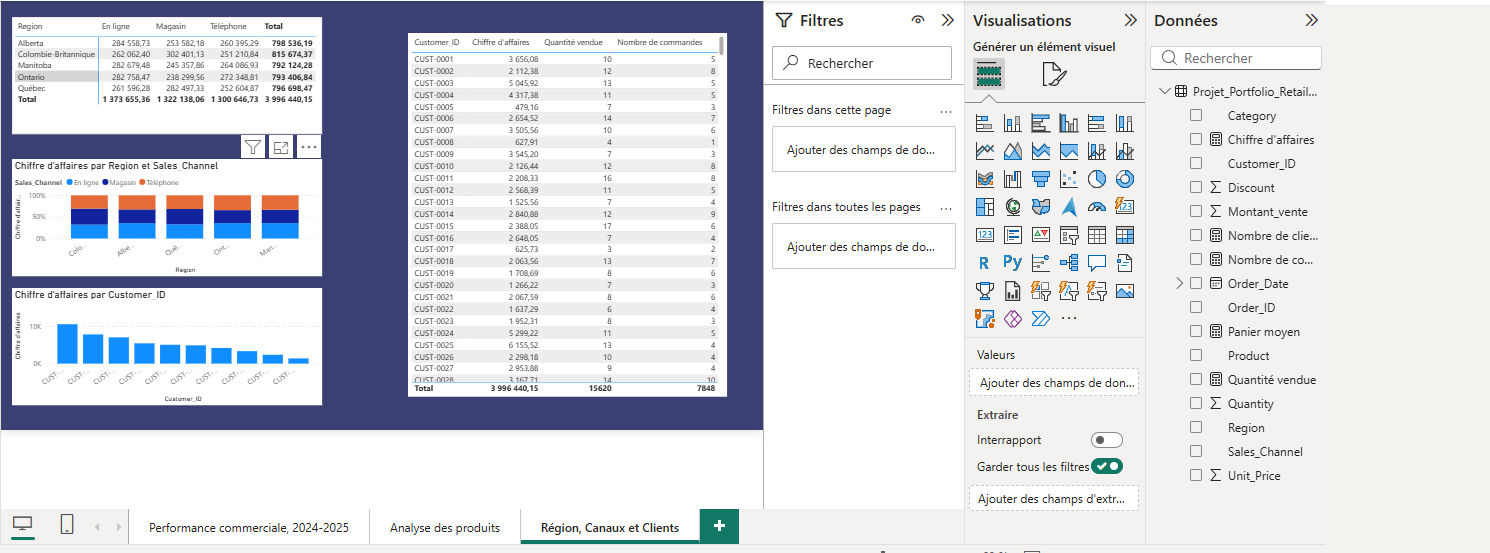

The page's visual inventory and layout, read from the dashboard file:
{"tool":"powerbi","page":{"name":"Région, Canaux et Clients","canvas":[1280,720],"ordinal":2},"visuals":[{"type":"pivotTable","fields":{"Rows":["Projet_Portfolio_Retail_Transactions_Sale.Region"],"Columns":["Projet_Portfolio_Retail_Transactions_Sale.Sales_Channel"],"Values":["Projet_Portfolio_Retail_Transactions_Sale.Chiffre d'affaires"]},"box":[18.5,26.9,520.7,196.5],"z":0},{"type":"hundredPercentStackedColumnChart","fields":{"Category":["Projet_Portfolio_Retail_Transactions_Sale.Region"],"Series":["Projet_Portfolio_Retail_Transactions_Sale.Sales_Channel"],"Y":["Projet_Portfolio_Retail_Transactions_Sale.Chiffre d'affaires"]},"box":[18.5,265.4,520.7,196.5],"z":1},{"type":"clusteredColumnChart","fields":{"Category":["Projet_Portfolio_Retail_Transactions_Sale.Customer_ID"],"Y":["Projet_Portfolio_Retail_Transactions_Sale.Chiffre d'affaires"]},"box":[18,482.5,521,197],"z":2},{"type":"tableEx","fields":{"Values":["Projet_Portfolio_Retail_Transactions_Sale.Customer_ID","Projet_Portfolio_Retail_Transactions_Sale.Chiffre d'affaires","Projet_Portfolio_Retail_Transactions_Sale.Quantité vendue","Projet_Portfolio_Retail_Transactions_Sale.Nombre de commandes"]},"box":[683.7,53.8,535.9,611.4],"z":3}]}

Visuals, with their boxes on the page's 1280x720 design canvas (x1, y1, x2, y2). These are canvas units, not pixel positions in the 1490x553 screenshot, which may show the page scaled, cropped or inside an application window:
pivotTable - Projet_Portfolio_Retail_Transactions_Sale.Region x Projet_Portfolio_Retail_Transactions_Sale.Sales_Channel: [18, 27, 539, 223]
hundredPercentStackedColumnChart - Projet_Portfolio_Retail_Transactions_Sale.Region x Projet_Portfolio_Retail_Transactions_Sale.Sales_Channel: [18, 265, 539, 462]
clusteredColumnChart - Projet_Portfolio_Retail_Transactions_Sale.Customer_ID x Projet_Portfolio_Retail_Transactions_Sale.Chiffre d'affaires: [18, 482, 539, 680]
tableEx - Projet_Portfolio_Retail_Transactions_Sale.Customer_ID x Projet_Portfolio_Retail_Transactions_Sale.Chiffre d'affaires: [684, 54, 1220, 665]
